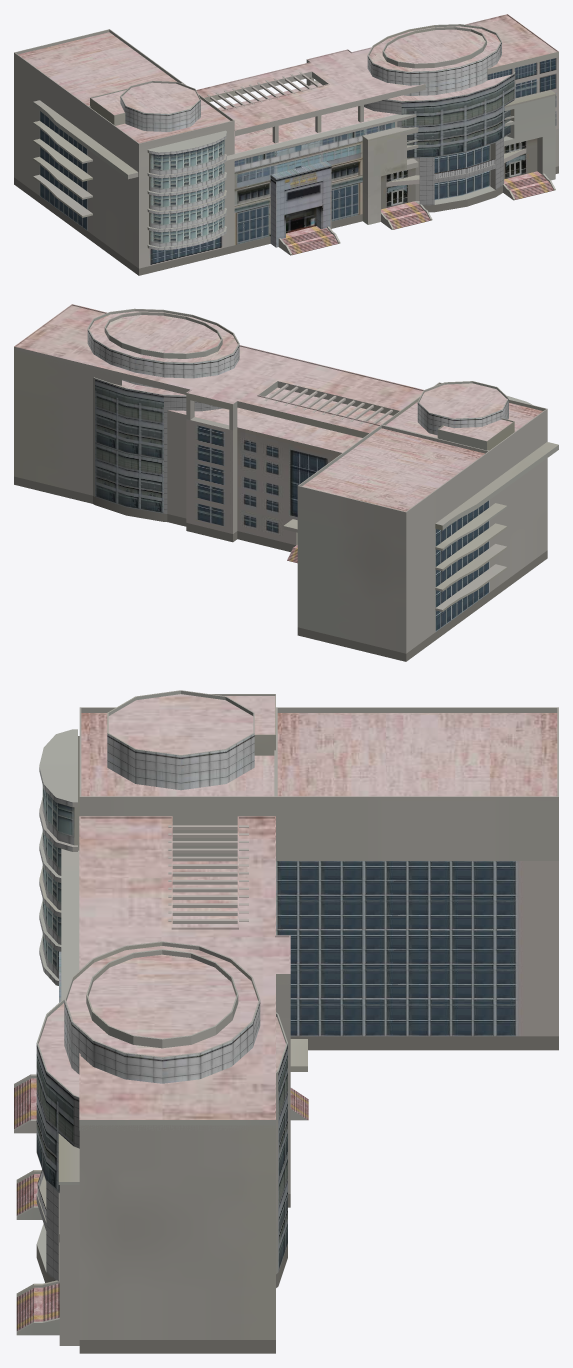
The picture shows the model from 3 angles, top to bottom: view 1: azimuth 30°, elevation 25°; view 2: azimuth 150°, elevation 25°; view 3: azimuth 270°, elevation 25°; orthographic projection. The views are drawn at different scales.
Parts seen in each view (by area): view 1: HN1338_HocVienAmNhacQuocGia; view 2: HN1338_HocVienAmNhacQuocGia; view 3: HN1338_HocVienAmNhacQuocGia.
Boxes of the visible parts, x1,y1,x2,y2 form: HN1338_HocVienAmNhacQuocGia: (14, 14, 558, 275); HN1338_HocVienAmNhacQuocGia: (14, 304, 558, 661); HN1338_HocVienAmNhacQuocGia: (14, 690, 558, 1353).
Size of the model in its own units: 87.62 by 28.68 by 50.1.
Materials: 1 (1 with a texture image).
